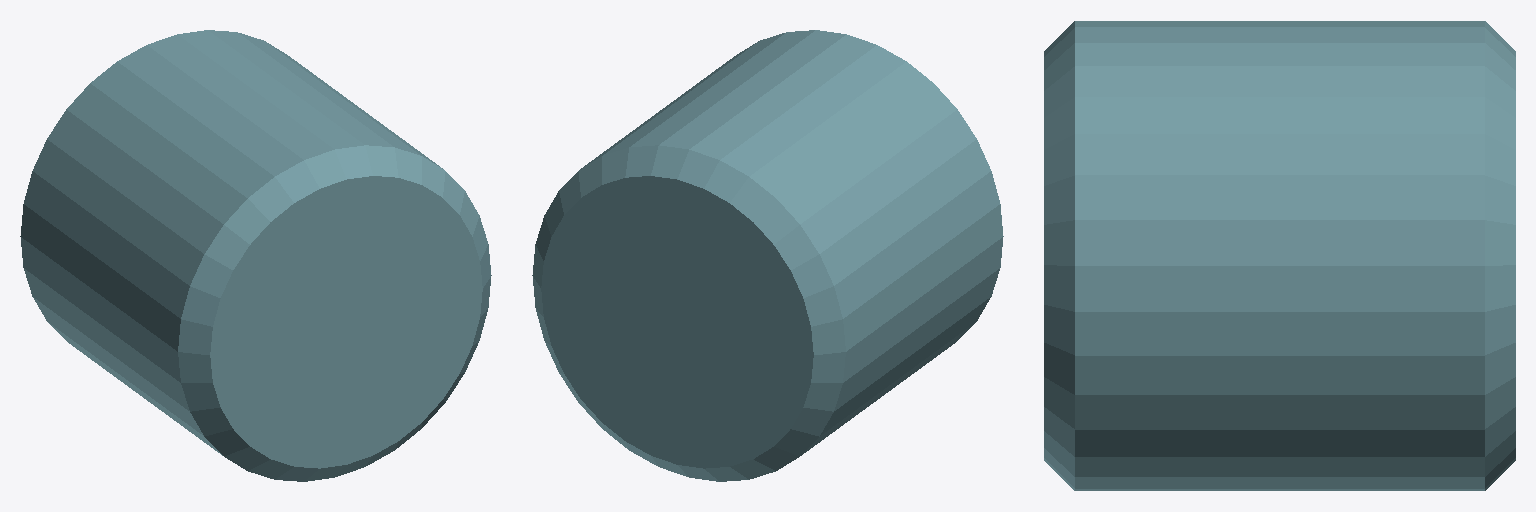
robot.urdf — object:
<?xml version="1.0"?>
<robot name="object">
  <link name="object">
    <visual>
      <origin xyz="0 0 0" rpy="-1.5707963 0 0"/>
      <geometry>
        <mesh filename="meshes/set2/set_obj12_cylinder_corner.obj" scale=".03 .03 .03"/>
      </geometry>
      <material name="blue_green">
        <color rgba="0.50 0.65 0.68 1.0"/>
      </material>
    </visual>
    <collision>
  <origin xyz="0 0 0" rpy="-1.5707963 0 0"/>
  <geometry>
    <mesh filename="meshes/set2/set_obj12_cylinder_corner_0decompose.obj" scale=".03 .03 .03"/>
<!--          <mesh filename="meshes/custom/obj0_ball.obj" scale=".05 .05 .05"/>-->
  </geometry>
</collision>

    <inertial>
      <density value="1000.0"/>
    </inertial>
  </link>
</robot>

--- What the picture shows (computed from the rendered views, not written in the file) ---
The picture shows the robot from 3 angles, left to right: view 1: azimuth 30°, elevation 25°; view 2: azimuth 150°, elevation 25°; view 3: azimuth 270°, elevation 25°; orthographic projection.
Robot: object — 1 links, 0 joints (none); root link object; default pose: all joints at 0.
Links seen in each view (by area): view 1: object; view 2: object; view 3: object.
Link boxes in pixels (x1,y1,x2,y2): object: (20, 30, 491, 481); object: (532, 30, 1003, 481); object: (1044, 21, 1515, 490).
Size in the robot's own frame: 0.06 by 0.06 by 0.06 metres.
Meshes: 1 distinct files referenced, 1 mesh visuals loaded (1 OBJ).
